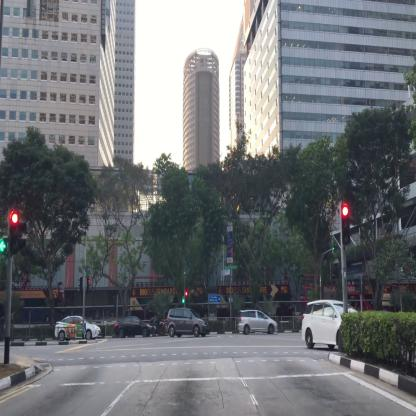red_traffic_light: (341, 204, 350, 244), (10, 211, 18, 253)
